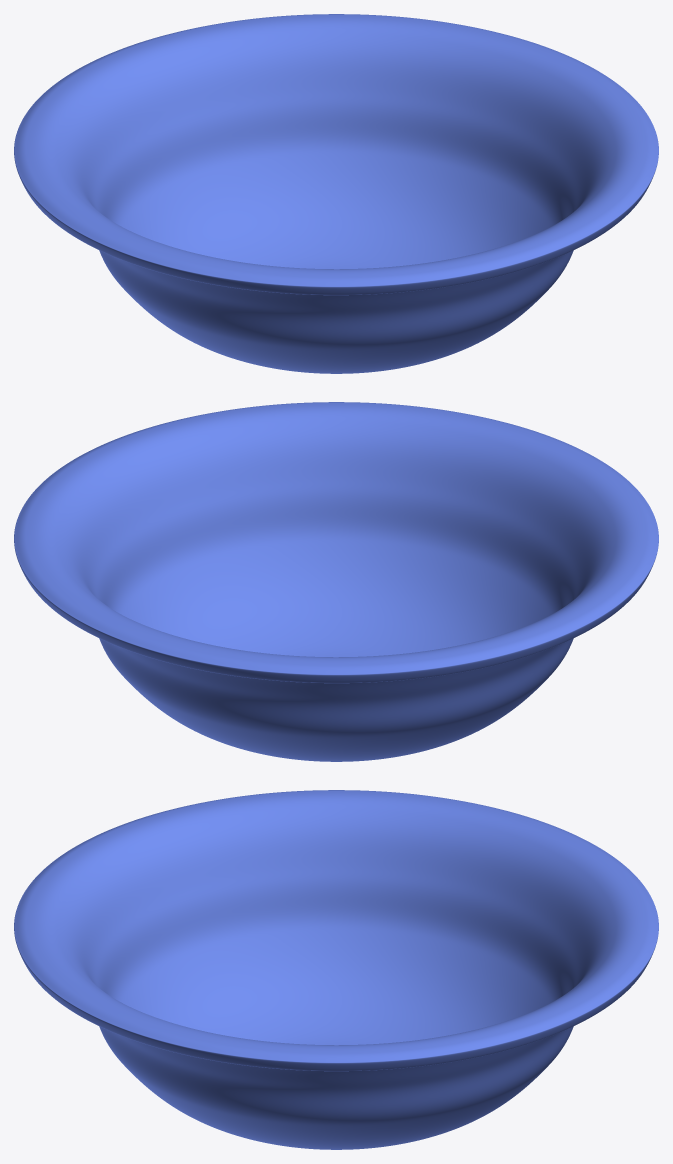
The picture shows the model from 3 angles, top to bottom: view 1: azimuth 30°, elevation 25°; view 2: azimuth 150°, elevation 25°; view 3: azimuth 270°, elevation 25°; orthographic projection.
Parts seen in each view (by area): view 1: Plate; view 2: Plate; view 3: Plate.
Boxes of the visible parts, bbox=[...] form: Plate: bbox=[14, 14, 658, 373]; Plate: bbox=[14, 402, 658, 761]; Plate: bbox=[14, 790, 658, 1149].
Size of the model in its own units: 0.3013 by 0.0914 by 0.3013.
